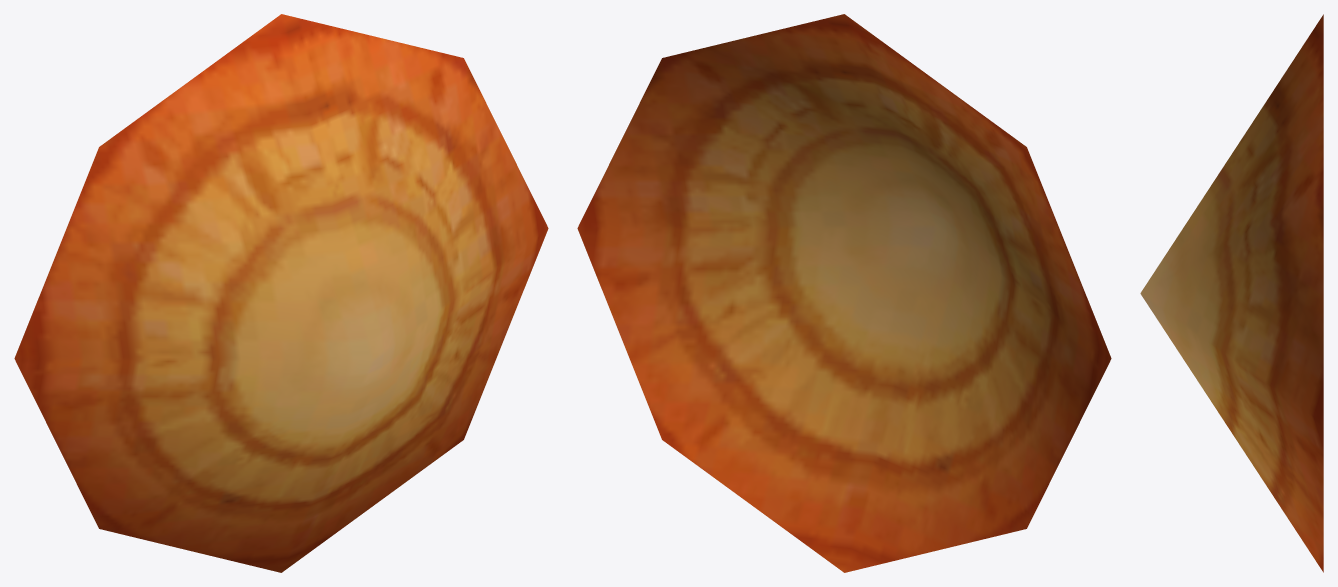
File: hutt_fighter_medium_engine_s01_on_l1.fbx
3 renders of one model, left to right at view 1: azimuth 30°, elevation 25°; view 2: azimuth 150°, elevation 25°; view 3: azimuth 270°, elevation 25°, orthographic.
Parts seen in each view (by area): view 1: mesh_node; view 2: mesh_node; view 3: mesh_node.
Part boxes in pixels (x1,y1,x2,y2): mesh_node: (14,14,548,572); mesh_node: (577,14,1111,572); mesh_node: (1140,14,1323,572).
Size of the model in its own units: 1.86 by 1.86 by 0.5544.
Materials: 1 (1 with a texture image).
